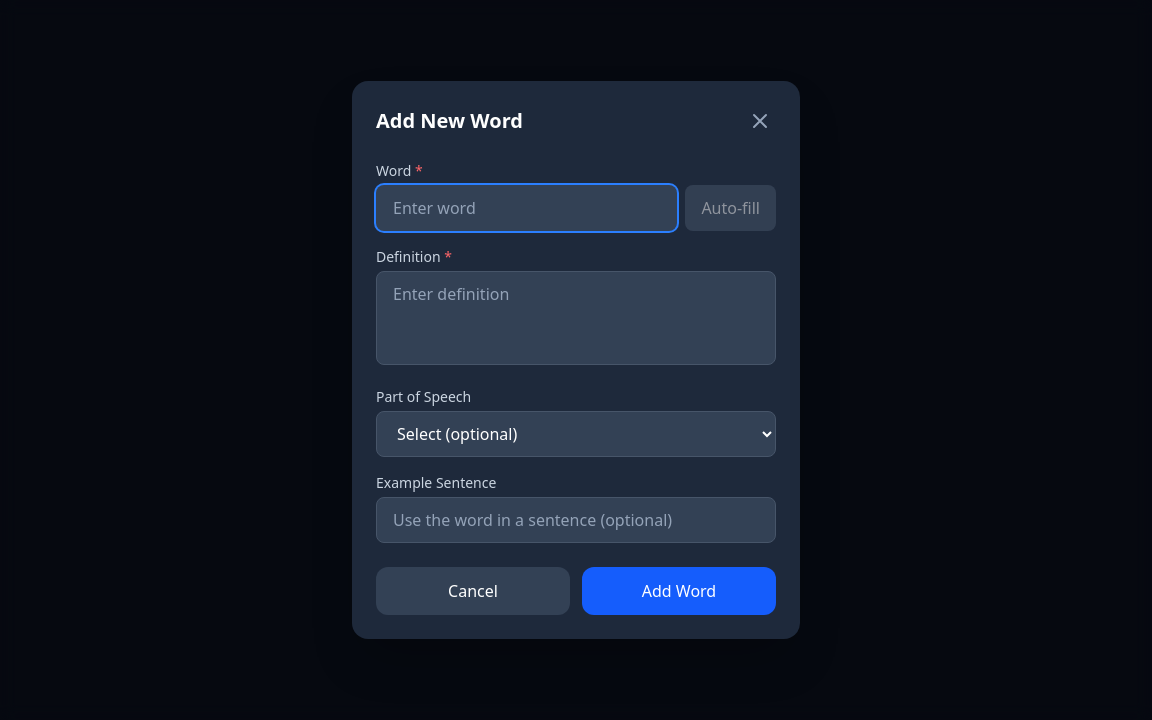
AddWordModal › requires a word and a definition
Click the button "Add Word" at (679, 591), box left=582, top=567, right=776, bottom=615
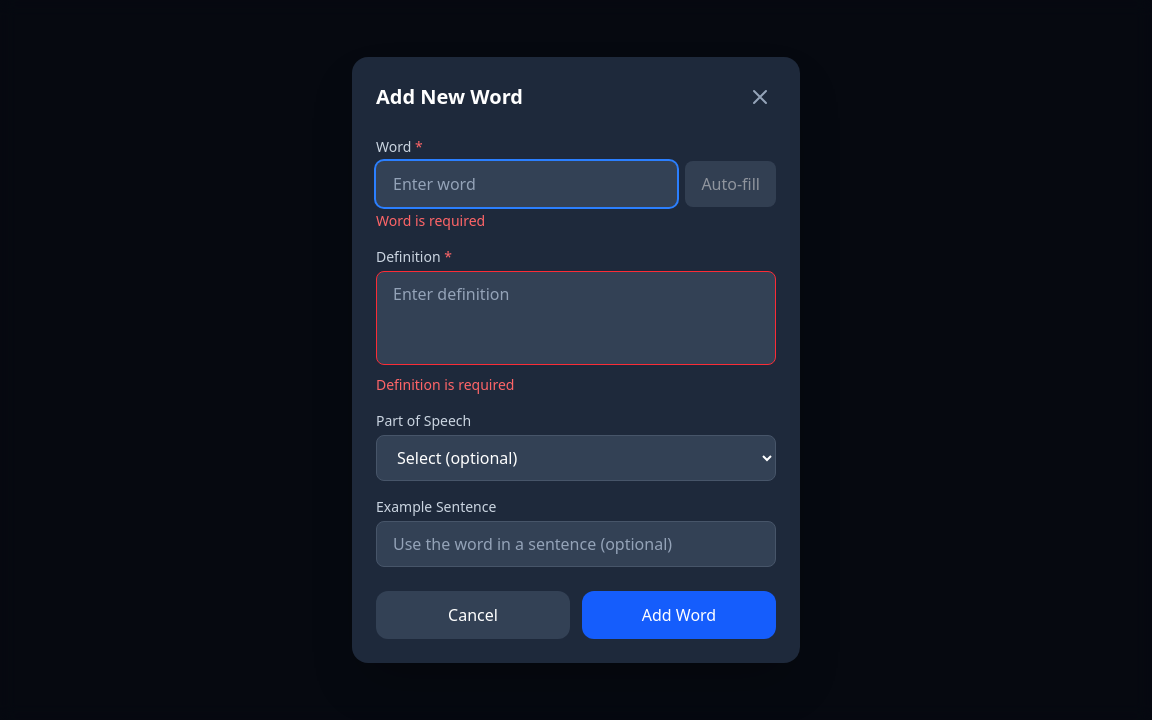
Check: the text "Word is required" is shown, box left=376, top=211, right=485, bottom=230
Check: the text "Definition is required" is shown, box left=376, top=375, right=514, bottom=394
